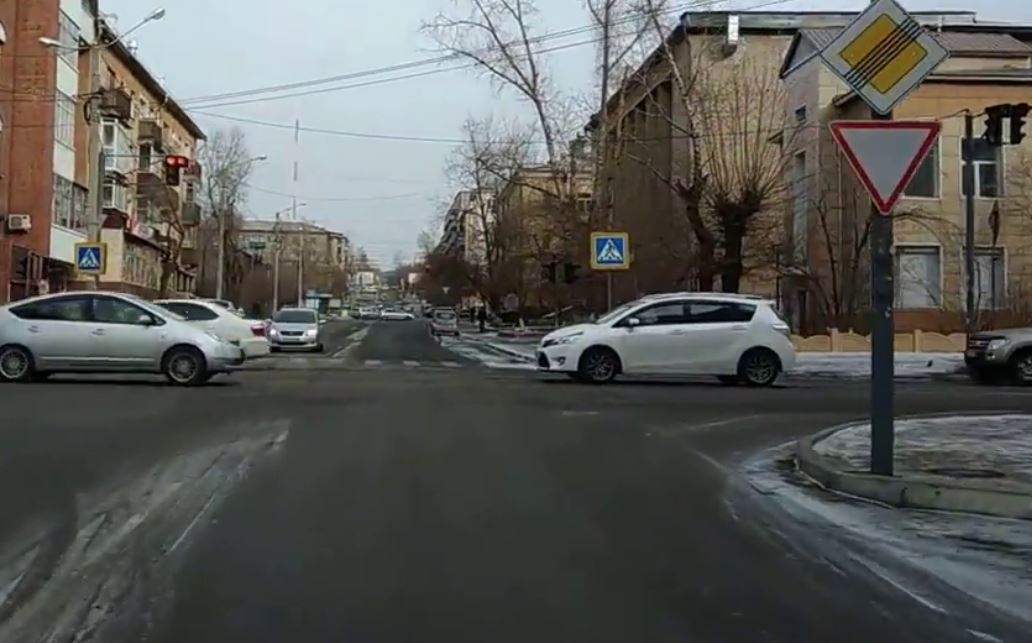Yol Ver: (824, 112, 939, 227)
